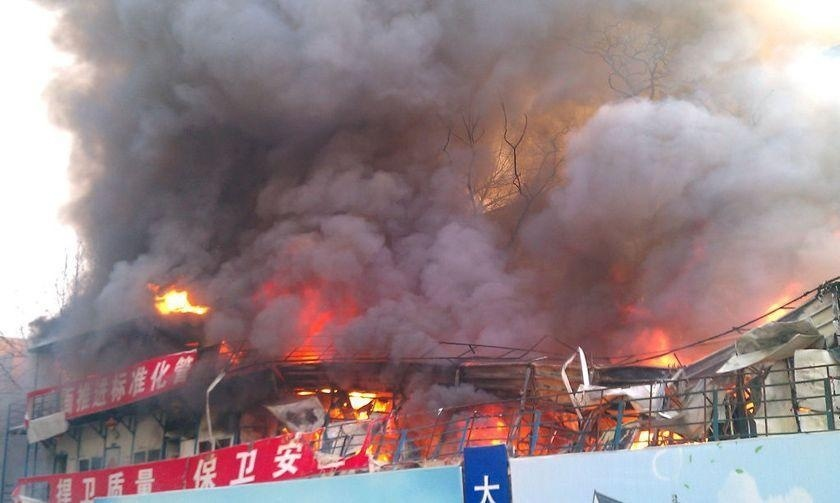fire: (150, 281, 207, 316), (632, 330, 681, 368)
